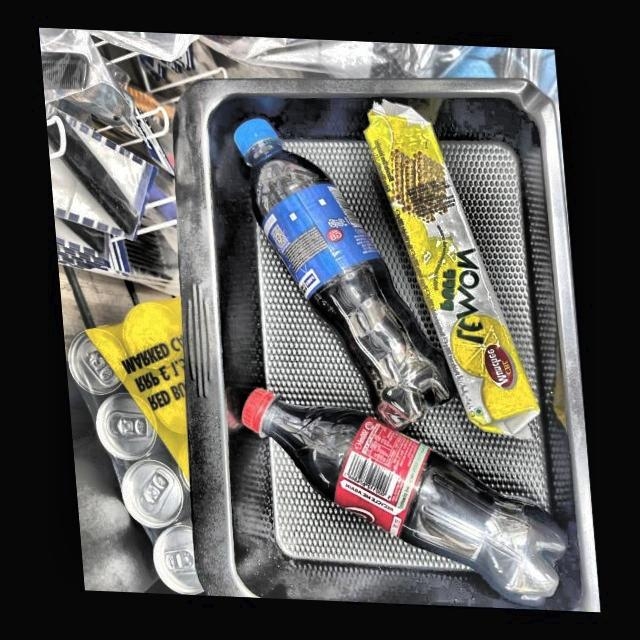coke-bottle: (243, 379, 563, 596), (230, 118, 450, 430)
lemon puff: (362, 99, 540, 431)
